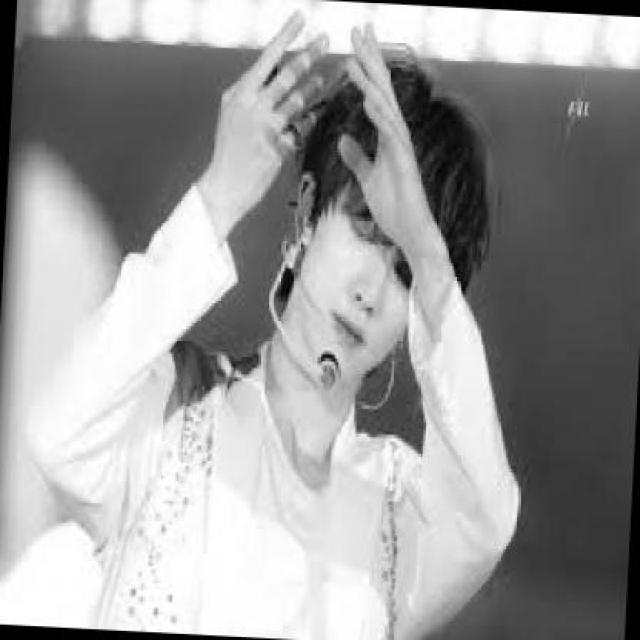earphone: (271, 211, 324, 266)
